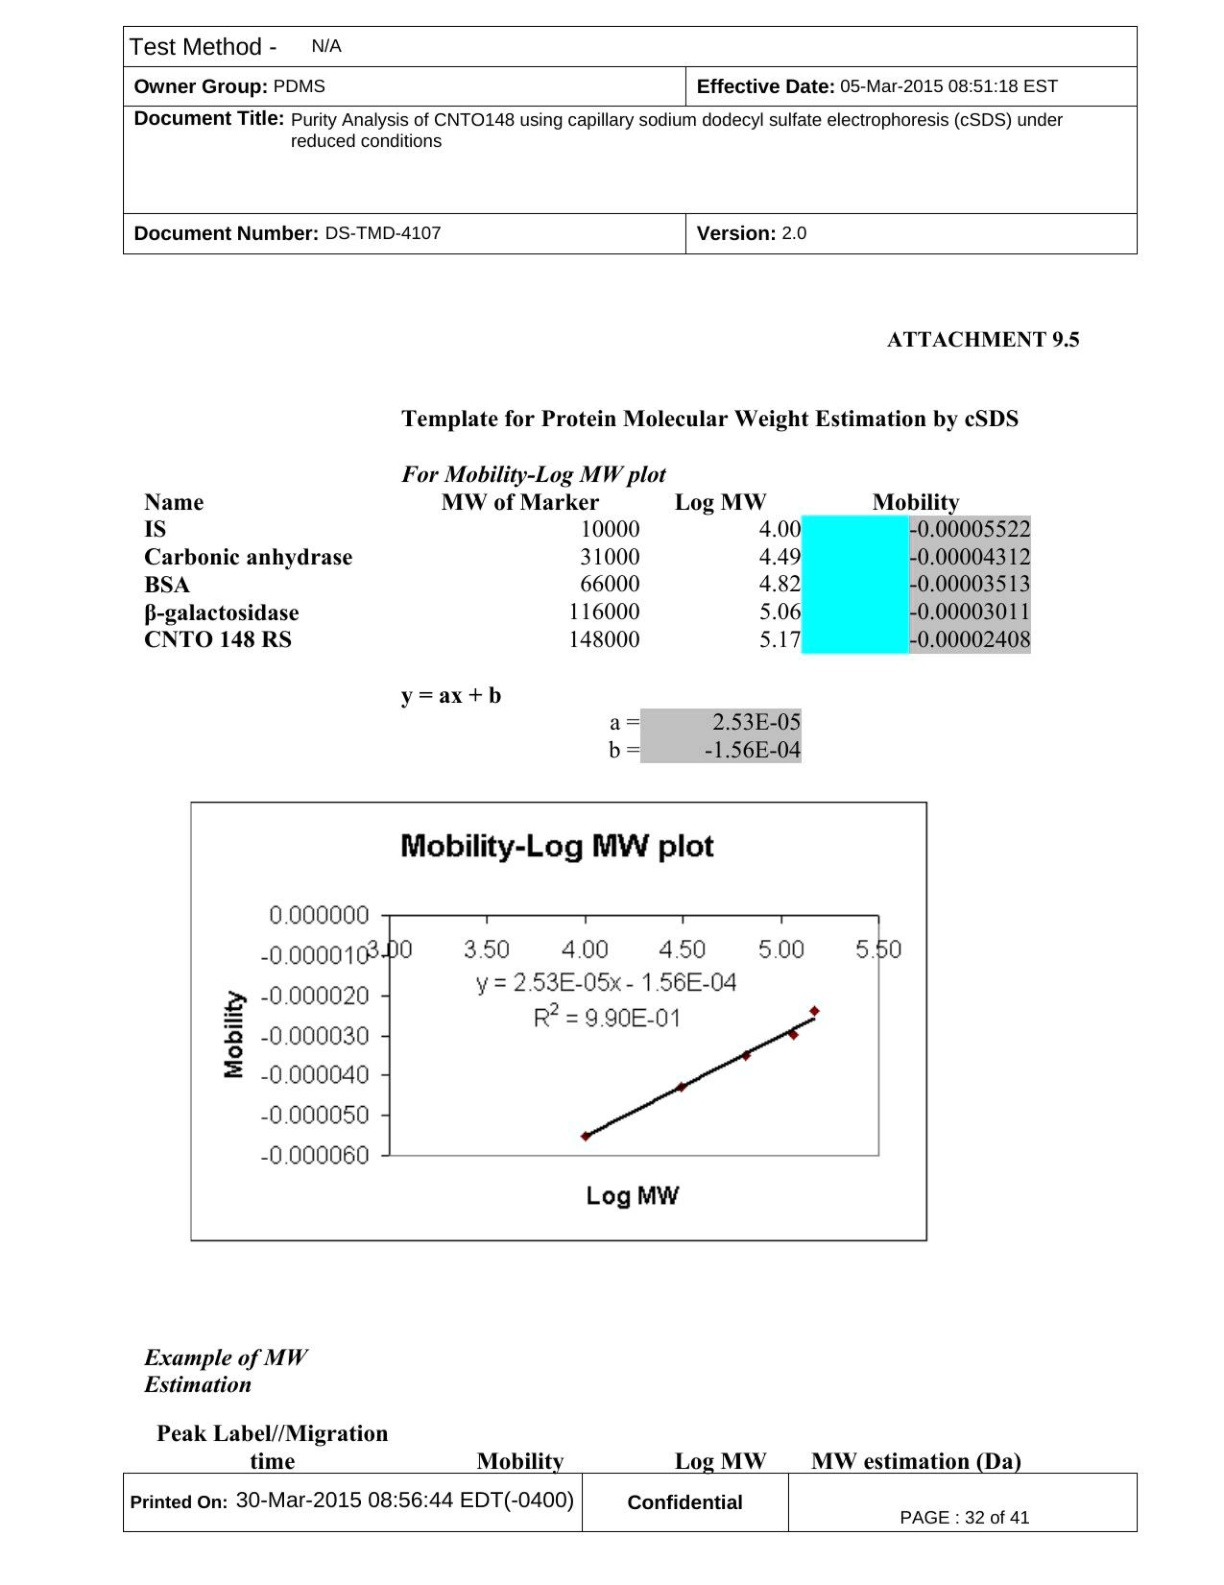full_lined: (122, 24, 1138, 255), (123, 1472, 1139, 1534)
nolines: (139, 461, 1035, 656)
